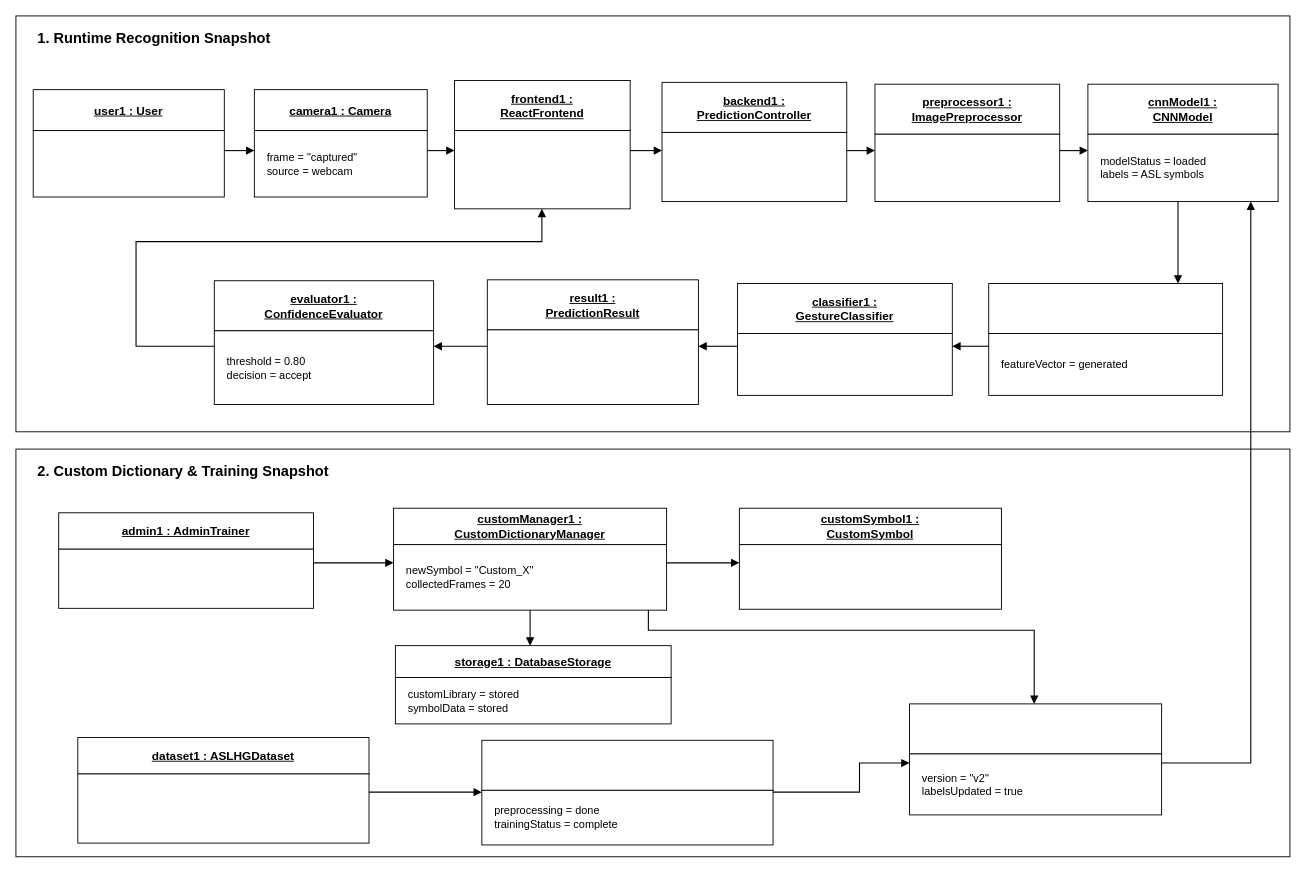
The diagram is 1306 pixels wide and 873 high, and some of its shapes have lost their labels. The centre of each missing label's shape, as x and y in pixels:
action = "add new symbol" status = active: point 185,578
action = "showing gesture" status = active: point 128,163
featureExtractor1 : FeatureExtractor: point 1105,308
handDetected = true imageSize = "128x128" websocket = connected: point 542,169
predictedSymbol = "A": point 844,364
requestType = "predict" connection = active: point 754,166
resize = "128x128" normalized = true: point 967,167
symbol = "A" confidence = 0.93 accepted = true: point 592,366
symbolName = "Custom_X" embeddings = ready: point 869,576
trainedModel1 : TrainedModel: point 1035,728
training1 : TrainingDatasetPipeline: point 627,764
trainSplit = 70% tuneSplit = 15% testSplit = 15%: point 223,808
